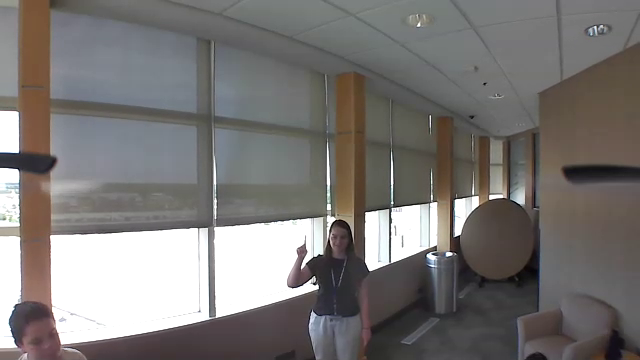up: (295, 232, 310, 260)
